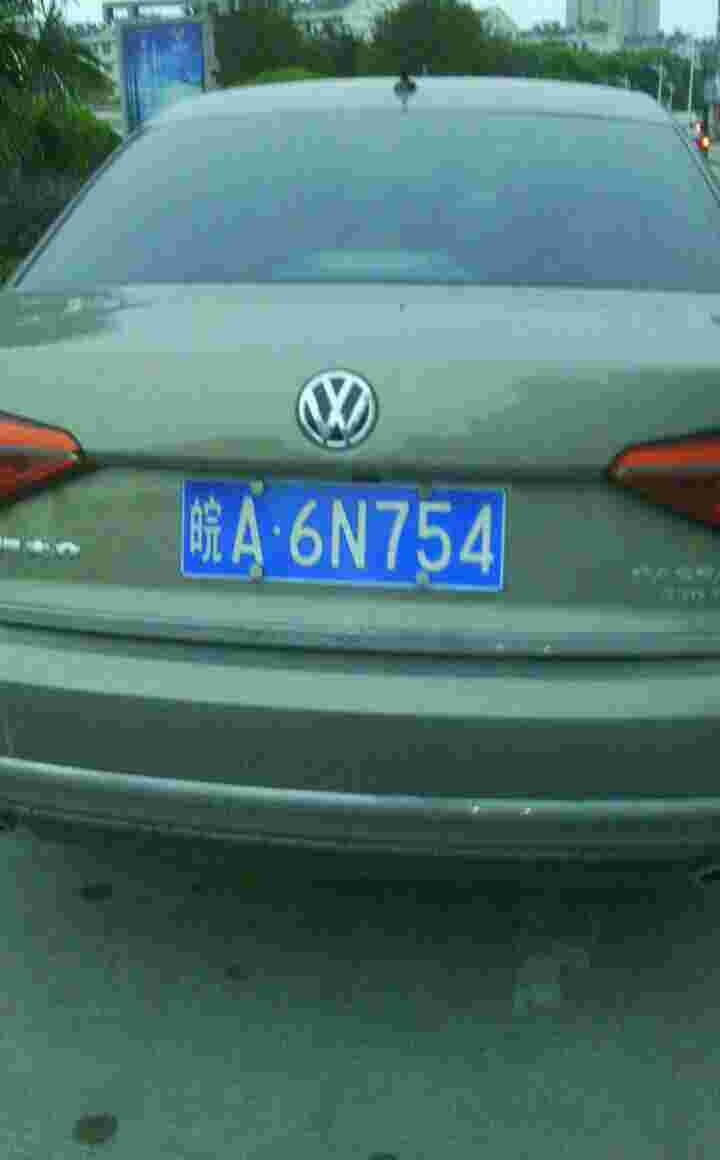license_plate: (188, 480, 507, 586)
